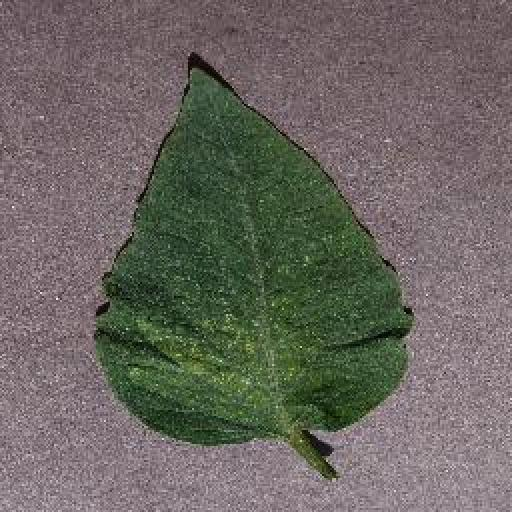disease_tomato: (92, 65, 414, 447)
